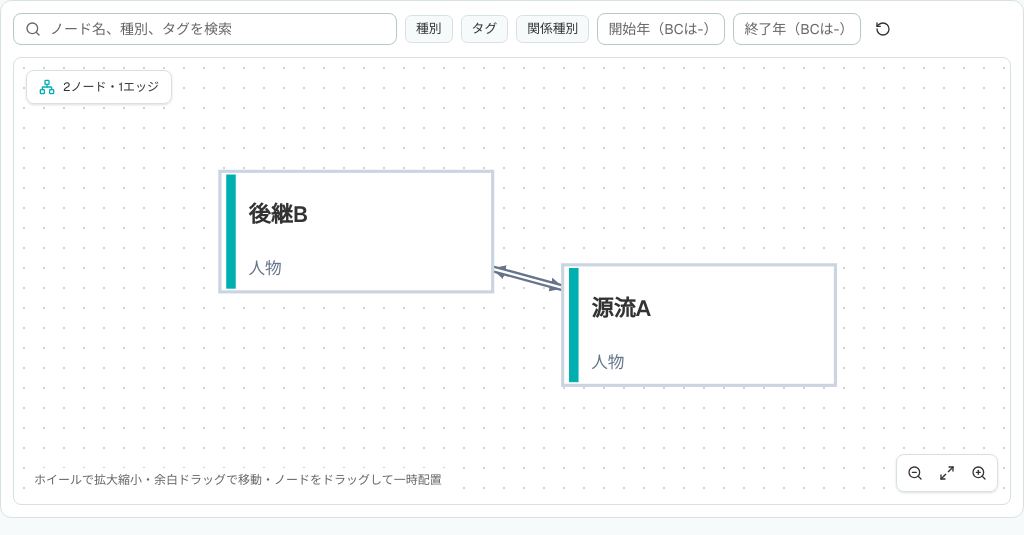
Test case: Phase L15 relationship network › filters nodes and supports wheel zoom plus canvas panning
The width and height of the screenshot is (1024, 535).
Press the mouse on the icon with test id "relationship-network-canvas" at (512, 281), box x1=14 y1=58 x2=1010 y2=504
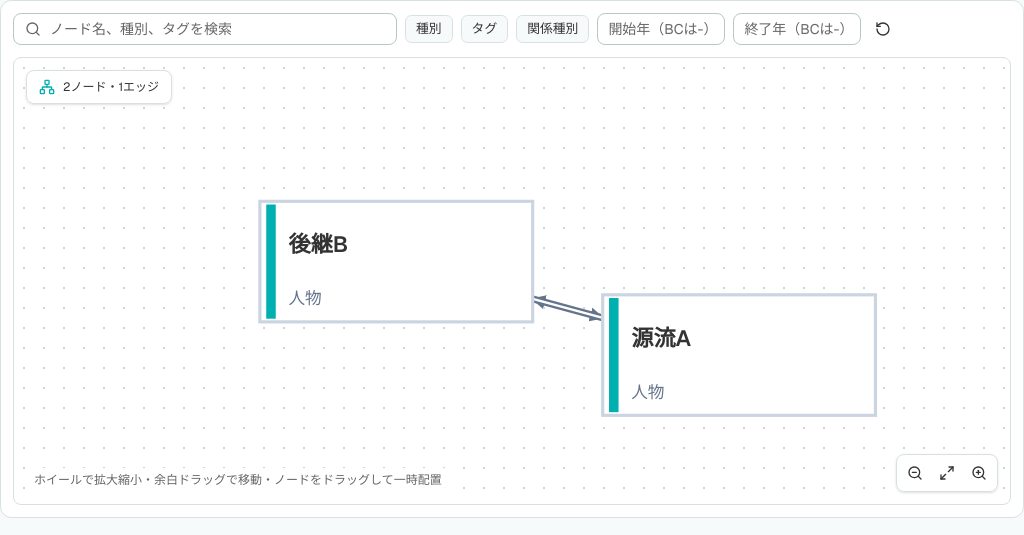
Type "源流" into the field with placeholder "ノード名、種別、タグを検索" at (205, 29), box x1=13 y1=13 x2=397 y2=45
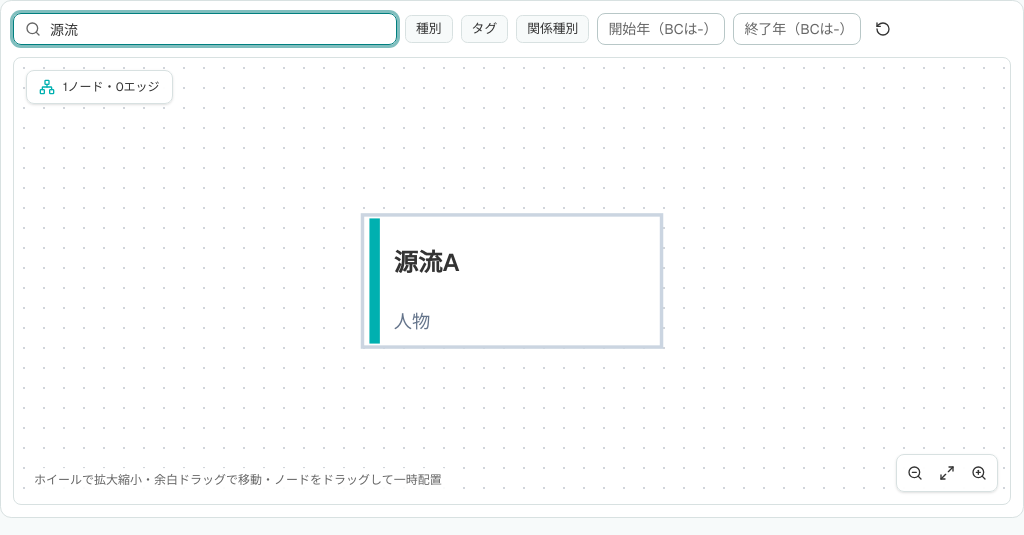
Expected: the button "源流A" is shown, x1=394 y1=247 x2=460 y2=333
Expected: the icon "後継B" is gone
